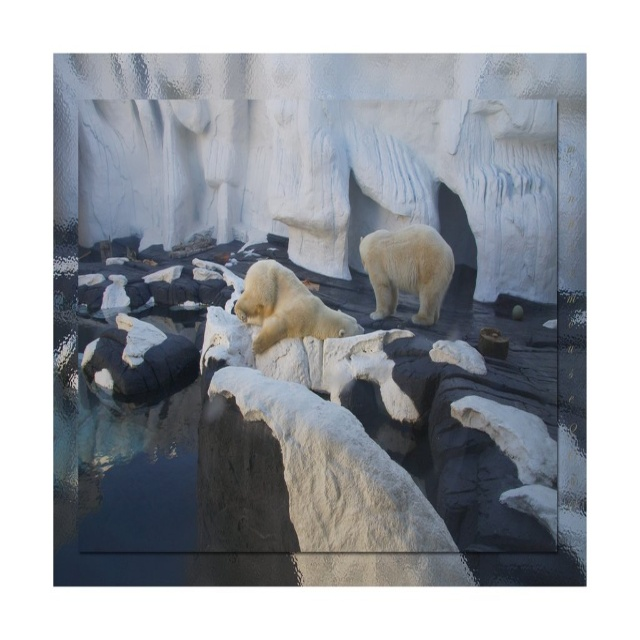Polar bear: (231, 260, 353, 358), (358, 224, 456, 326)
